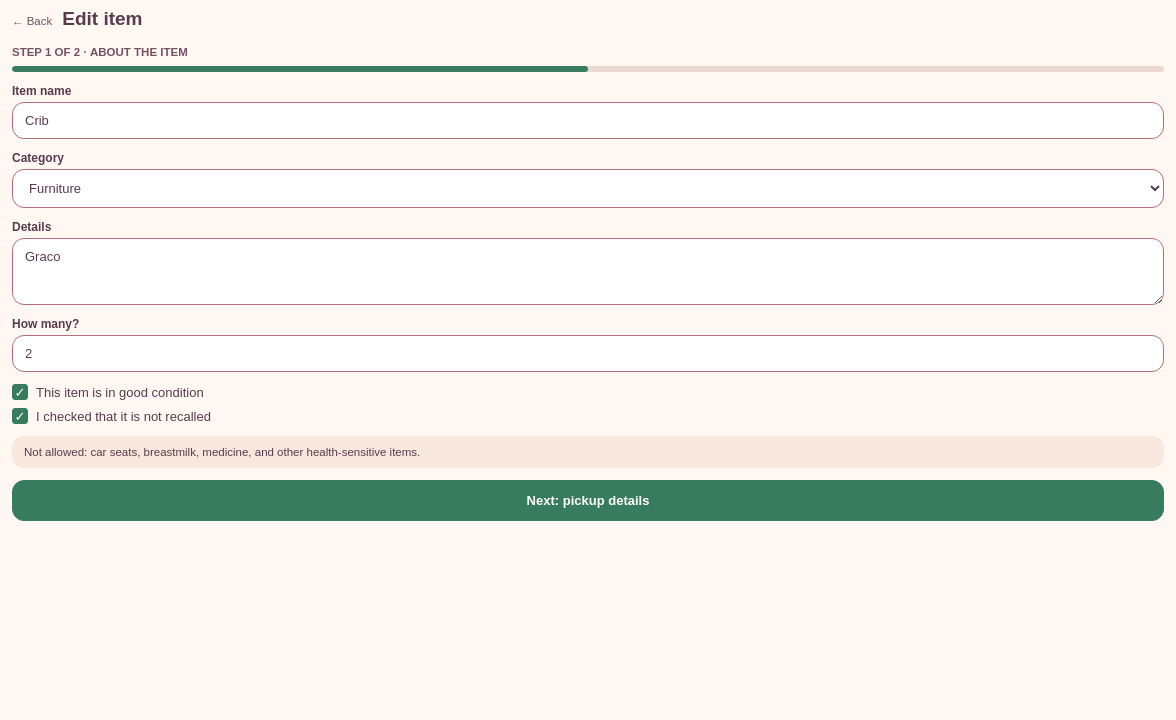
Test: PostItemPage editing › keeps what was typed when saving fails
The image size is (1176, 720).
Expected: the heading "Edit item" is shown, [62,8,142,30]
Click the button "Next: pickup details": click(588, 500) [12,480,1164,521]
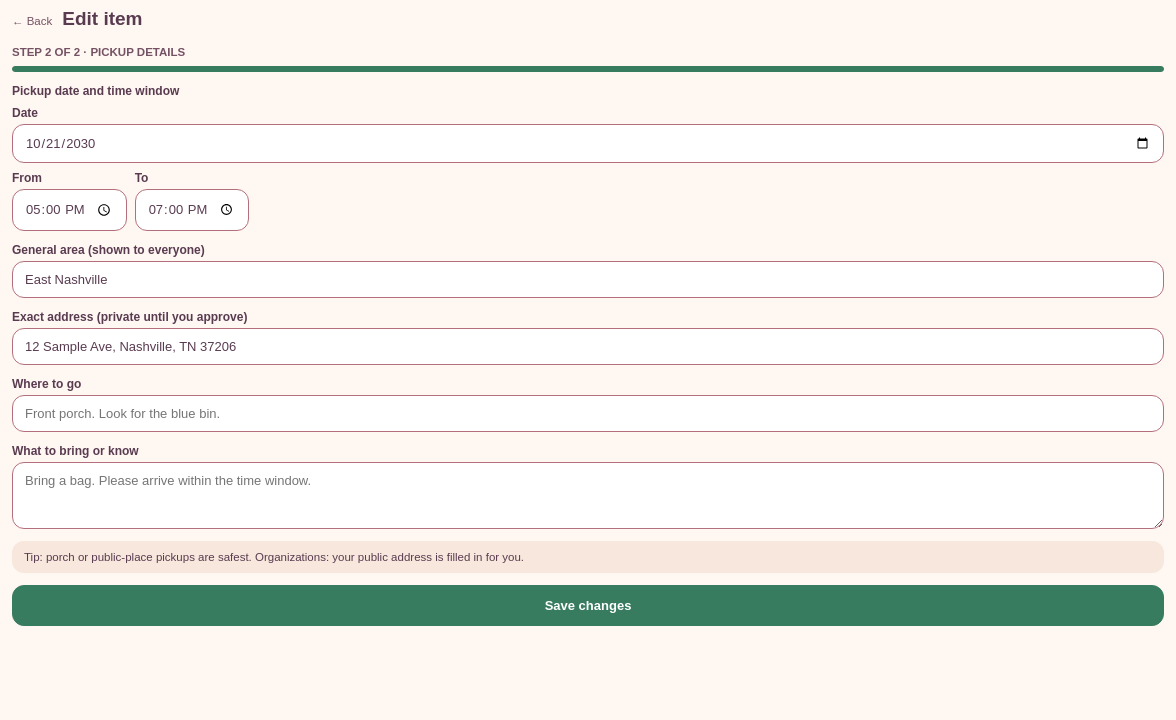
In the field labelled "General area (shown to everyone)": (588, 279) [12,261,1164,298], type "Downtown"
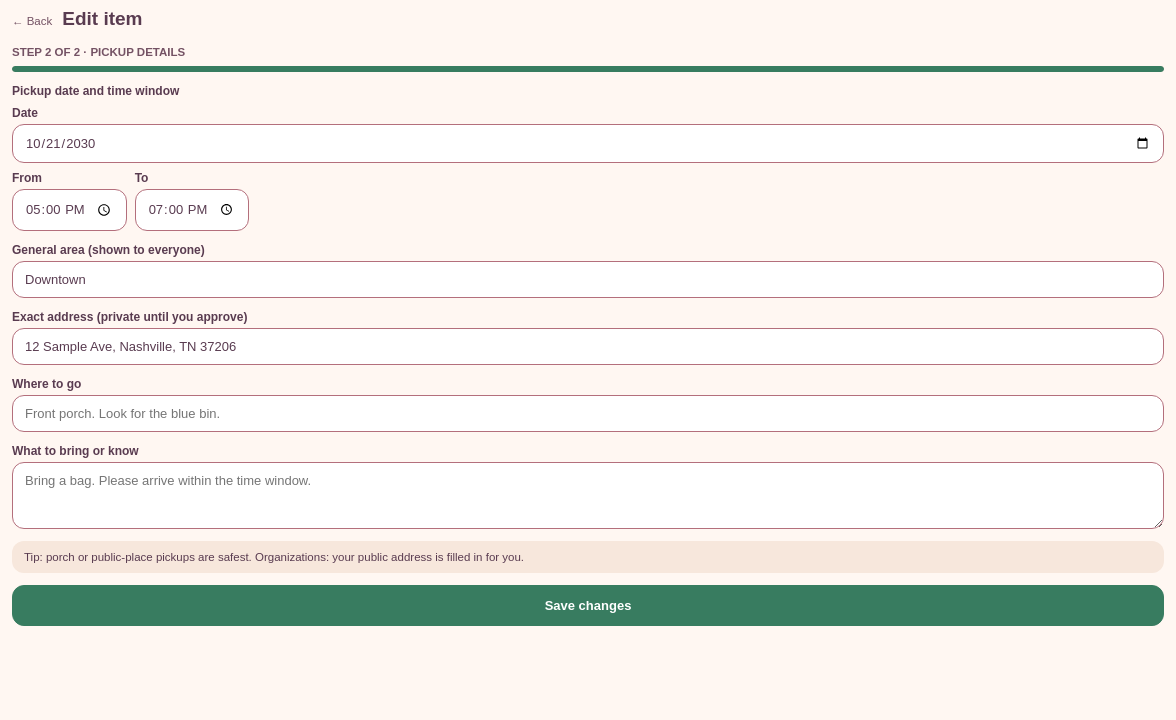
Click the button "Save changes": click(588, 605) [12,585,1164,626]
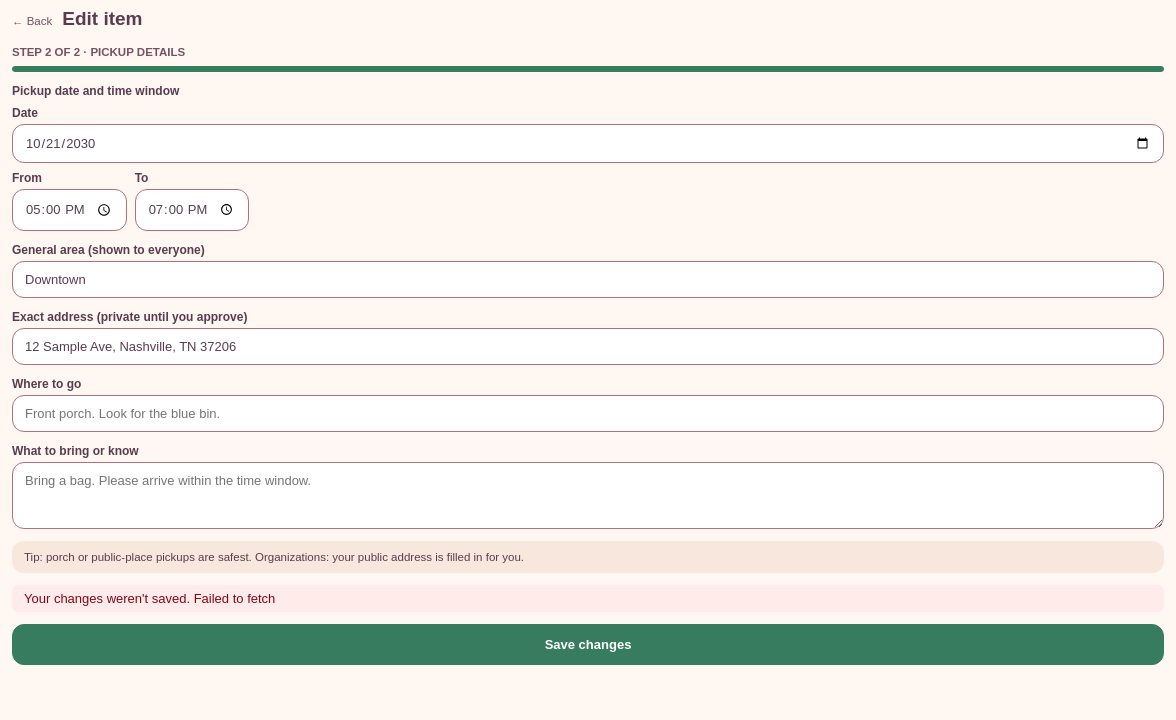
Now the text "Your changes weren't saved. Failed to fetch" is shown, box [12,585,1164,612]
